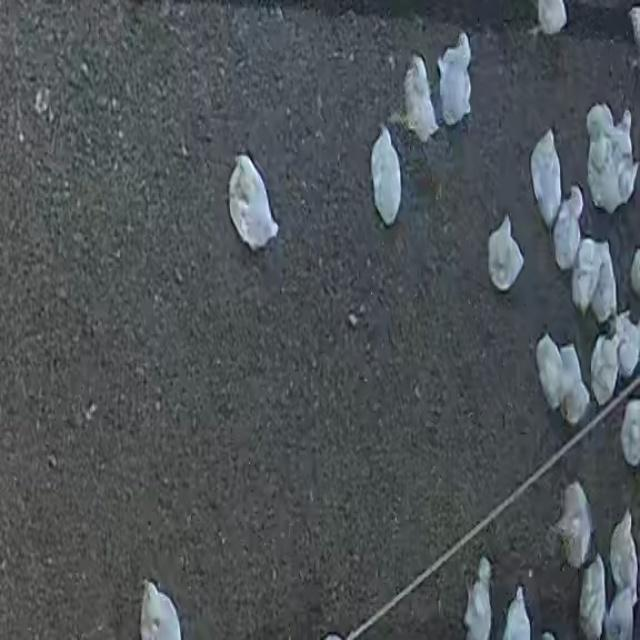chicken: (222, 152, 286, 250), (430, 31, 477, 124), (359, 122, 401, 226), (589, 108, 621, 219), (532, 128, 563, 226), (609, 105, 640, 202), (399, 61, 437, 134), (486, 213, 520, 289), (582, 330, 620, 397), (584, 234, 614, 318), (607, 513, 640, 589), (555, 487, 589, 555), (562, 344, 592, 417), (534, 336, 566, 404), (552, 182, 577, 268), (566, 238, 596, 308), (585, 556, 607, 631), (612, 320, 640, 368)
